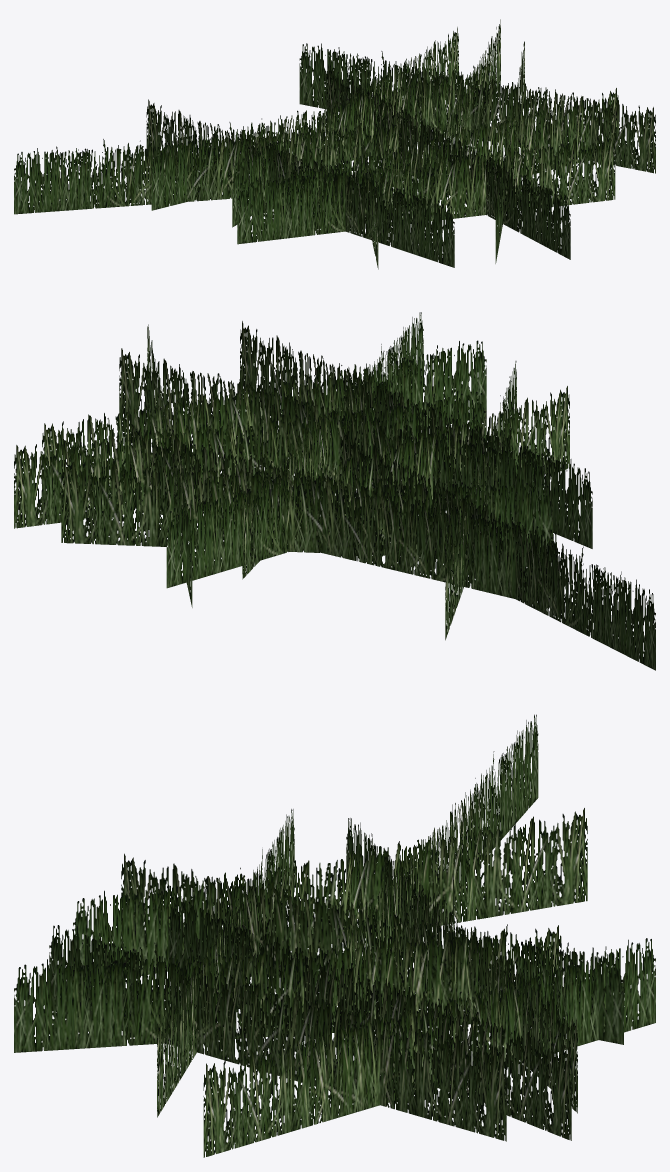
Rendered from grass_4.obj.
3 views of the same model, one above another, from view 1: azimuth 30°, elevation 25°; view 2: azimuth 150°, elevation 25°; view 3: azimuth 270°, elevation 25° (orthographic). The views are drawn at different scales.
Parts seen in each view (by area): view 1: grass; view 2: grass; view 3: grass.
Boxes of the visible parts, bbox=[...] form: grass: bbox=[14, 19, 655, 269]; grass: bbox=[14, 312, 655, 670]; grass: bbox=[14, 714, 655, 1157].
Size of the model in its own units: 16.88 by 2.16 by 12.71.
